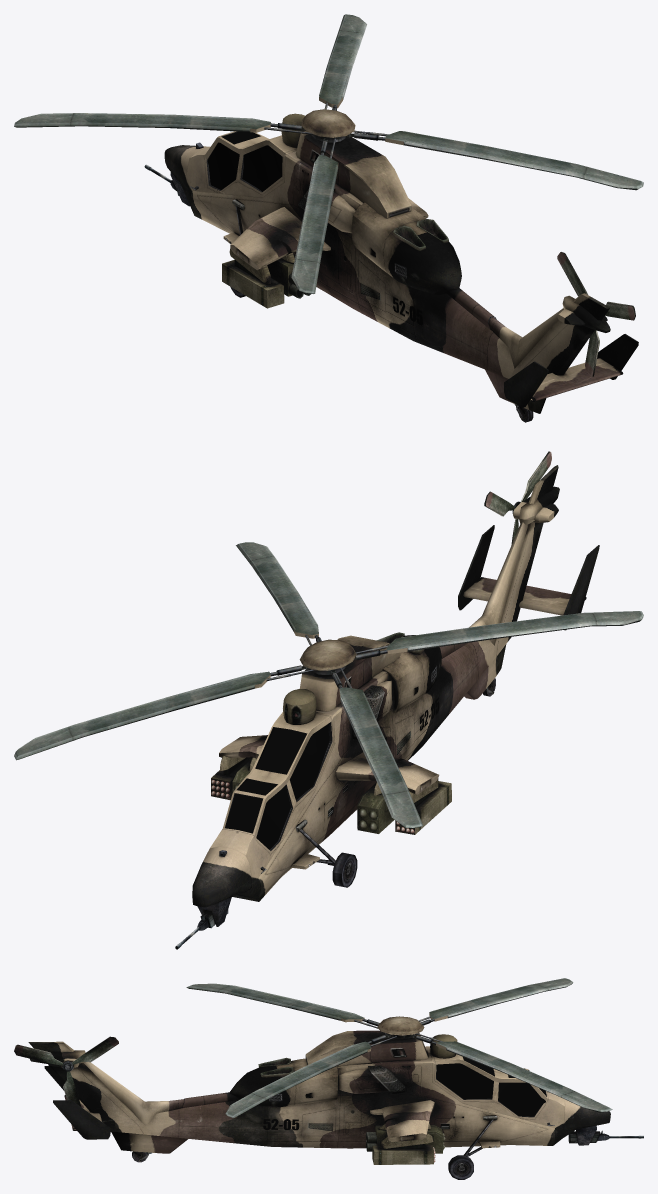
Rendered from helicopter.fbx.
The picture shows the model from 3 angles, top to bottom: view 1: azimuth 30°, elevation 25°; view 2: azimuth 150°, elevation 25°; view 3: azimuth 270°, elevation 25°; orthographic projection. The views are drawn at different scales.
Parts seen in each view (by area): view 1: polySurface1; view 2: polySurface1; view 3: polySurface1.
Part boxes in pixels (left/top/right/bottom): polySurface1: left=14, top=14, right=643, bottom=422; polySurface1: left=14, top=451, right=643, bottom=949; polySurface1: left=14, top=978, right=643, bottom=1179.
Size of the model in its own units: 0.9503 by 0.4329 by 1.73.
